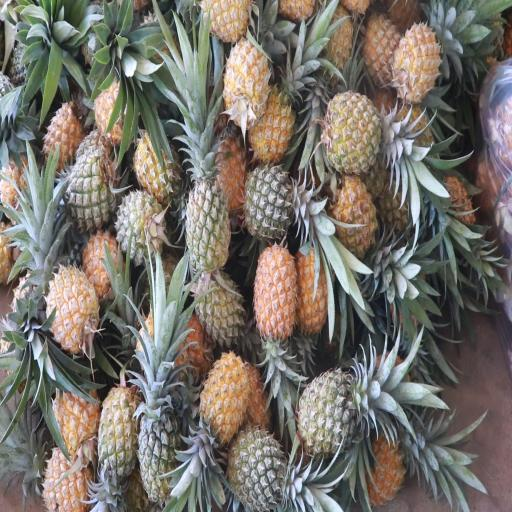------------------------------: (184, 150, 234, 273), (324, 95, 395, 175), (224, 424, 289, 506), (137, 398, 182, 499), (127, 126, 182, 201), (194, 266, 244, 348), (80, 229, 126, 303), (360, 11, 402, 85), (37, 107, 82, 173)
Pineapple - v8 v1: (198, 348, 248, 441), (45, 268, 100, 352), (252, 240, 296, 341), (328, 168, 380, 252), (96, 382, 138, 482), (51, 374, 100, 458), (220, 37, 266, 122), (392, 20, 441, 99), (295, 239, 334, 333), (362, 426, 408, 502), (248, 83, 293, 155)
